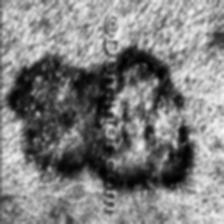Potentially Malignant Skin Tumors: (8, 56, 101, 182), (117, 48, 194, 190)
